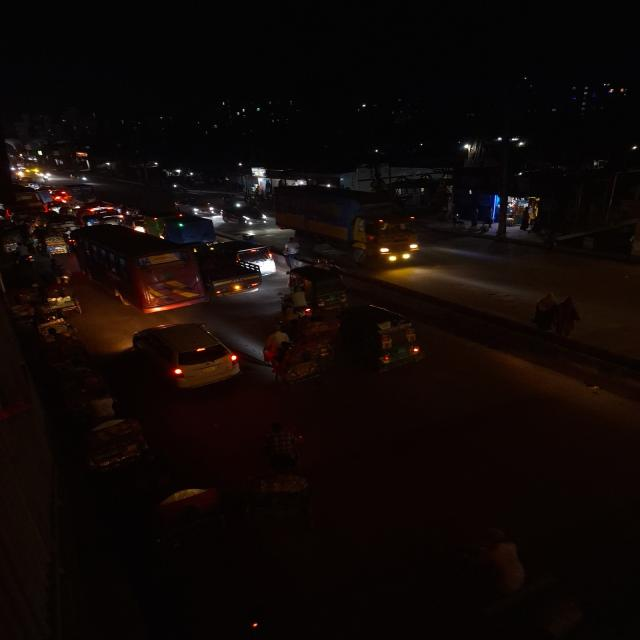bus: (68, 224, 209, 316)
car: (125, 321, 246, 394), (225, 208, 270, 228), (82, 201, 121, 217), (188, 199, 220, 217)
cng: (349, 303, 430, 376), (285, 266, 350, 313), (226, 239, 280, 275), (31, 226, 70, 254)
motorcycle: (281, 238, 303, 266)
pedestrian: (281, 237, 303, 266)
pickup_van: (202, 257, 262, 303)
rickshaw: (243, 418, 324, 530), (63, 393, 156, 480), (258, 319, 340, 387), (10, 291, 66, 339), (36, 324, 89, 364)
truck: (268, 187, 424, 265)
